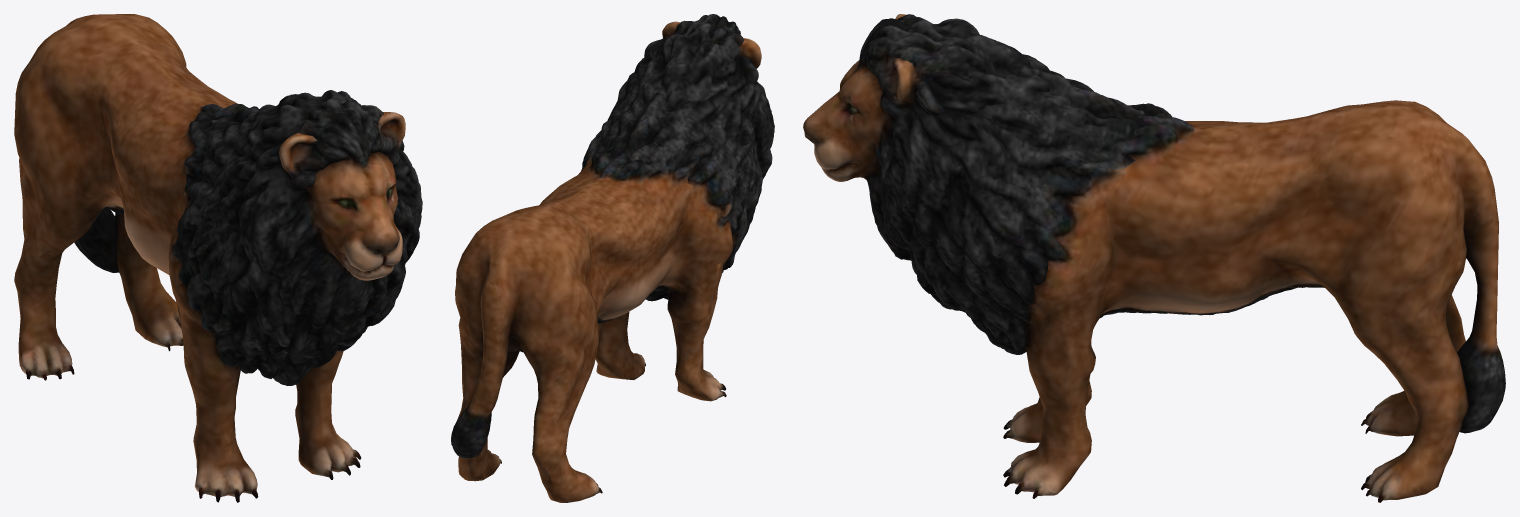
File: MZ4250 - Lion_alt.glb
The picture shows the model from 3 angles, left to right: view 1: azimuth 30°, elevation 25°; view 2: azimuth 150°, elevation 25°; view 3: azimuth 270°, elevation 25°; orthographic projection. The views are drawn at different scales.
Visible parts, largest first — view 1: Lion t.001; view 2: Lion t.001; view 3: Lion t.001.
Part boxes in pixels (left/top/right/bottom): Lion t.001: left=14, top=14, right=422, bottom=502; Lion t.001: left=451, top=14, right=774, bottom=502; Lion t.001: left=803, top=14, right=1505, bottom=502.
Bounding box in the file's own units: 0.3986 × 0.8079 × 1.18.
1 material, 1 textured.
